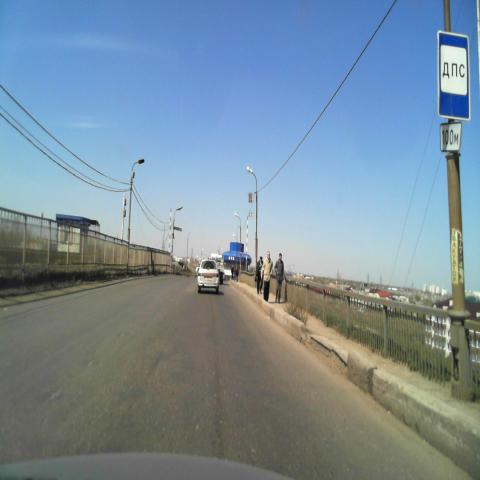7_12: (437, 31, 470, 121)
